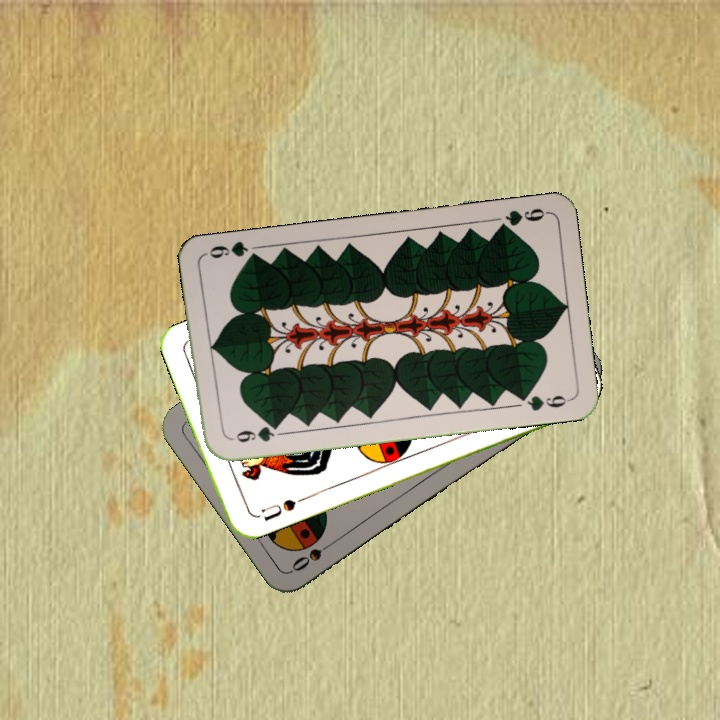G9: (492, 204, 550, 234), (232, 420, 283, 445)
SO: (287, 535, 340, 575)
SU: (257, 495, 299, 524)
